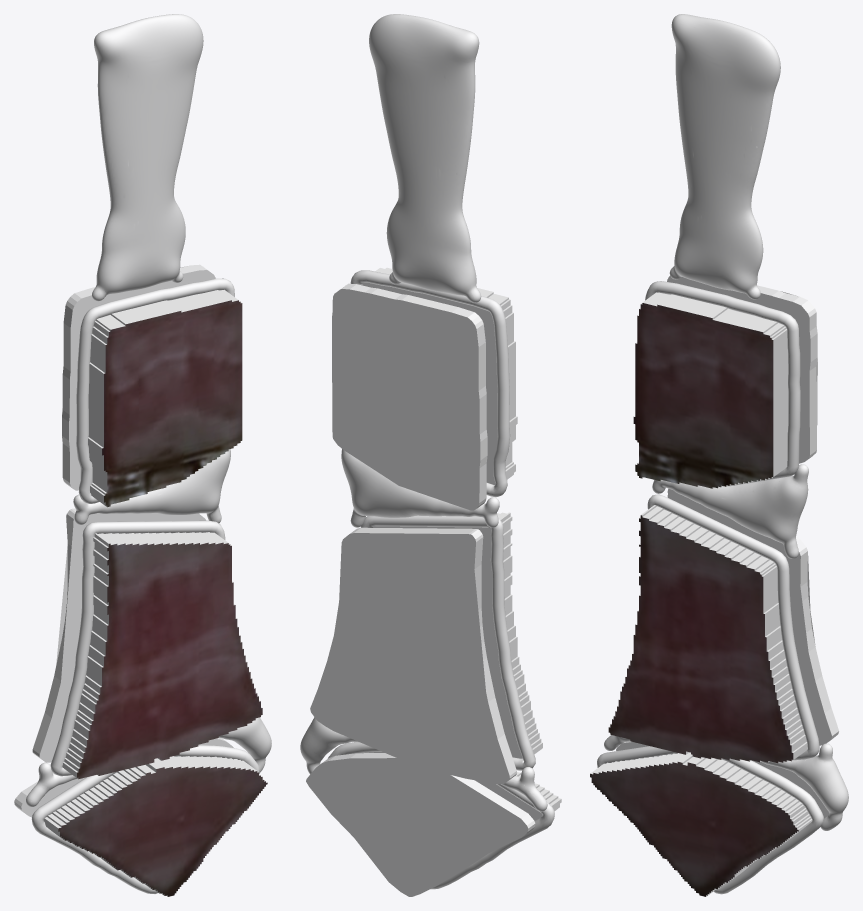
The picture shows the model from 3 angles, left to right: view 1: azimuth 30°, elevation 25°; view 2: azimuth 150°, elevation 25°; view 3: azimuth 330°, elevation 25°; orthographic projection.
Visible parts, largest first — view 1: joya; view 2: joya; view 3: joya.
Part boxes in pixels (x1=…): joya: x1=14, y1=14, x2=271, y2=896; joya: x1=300, y1=14, x2=561, y2=896; joya: x1=590, y1=14, x2=848, y2=896.
Bounding box in the file's own units: 0.0119 × 0.0404 × 0.00325.
3 materials, 1 textured.
